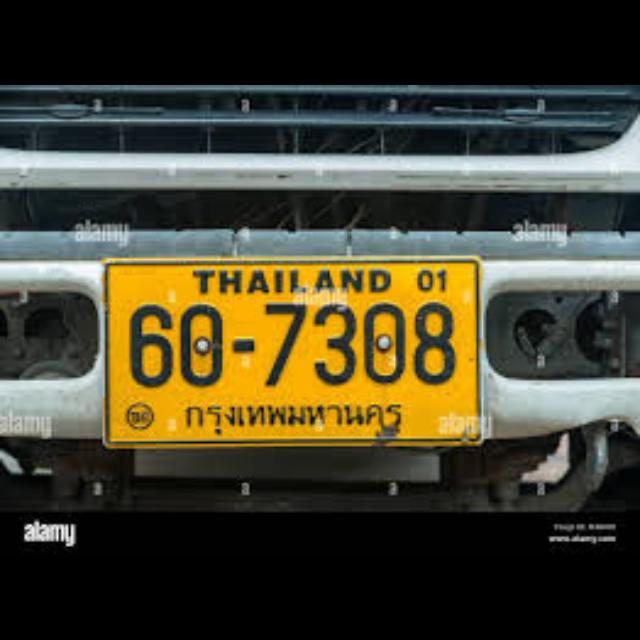licenseplate: (103, 255, 485, 445)
